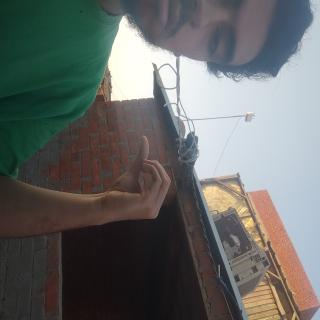WAW: (99, 194, 169, 295)
